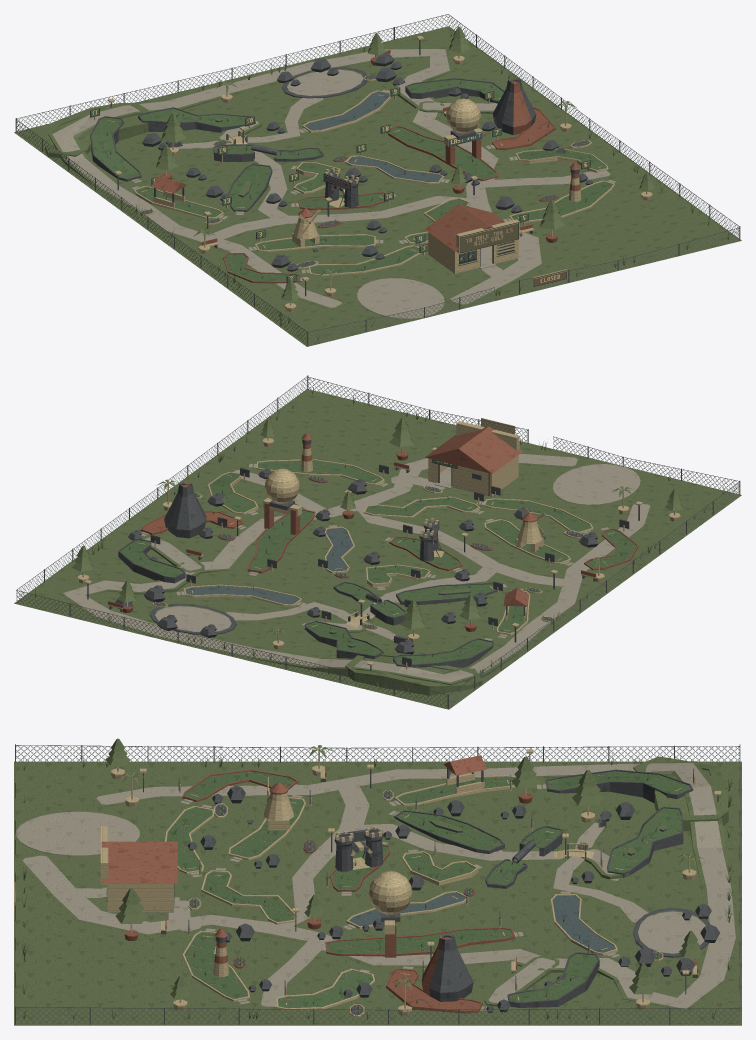
Rendered from thimble-trails-2006.glb.
3 renders of one model, top to bottom at view 1: azimuth 30°, elevation 25°; view 2: azimuth 150°, elevation 25°; view 3: azimuth 270°, elevation 25°, orthographic. The views are drawn at different scales.
Parts seen in each view (by area): view 1: lot, putting_lanes, course_obstacles, ticket_hut, statue_pad, sign_name; view 2: lot, putting_lanes, ticket_hut, course_obstacles, statue_pad; view 3: lot, putting_lanes, course_obstacles, ticket_hut, statue_pad, Gate turret.001, Covered bridge roof, Gate turret.
Part boxes in pixels (x1,y1,x2,y2): lot: [14, 14, 741, 346]; putting_lanes: [90, 78, 614, 283]; course_obstacles: [292, 78, 581, 247]; ticket_hut: [425, 204, 522, 273]; statue_pad: [357, 278, 444, 318]; sign_name: [460, 222, 518, 253]; lot: [14, 375, 741, 709]; putting_lanes: [118, 459, 638, 669]; ticket_hut: [425, 421, 522, 496]; course_obstacles: [164, 433, 543, 551]; statue_pad: [552, 464, 640, 504]; lot: [14, 744, 741, 1025]; putting_lanes: [165, 768, 695, 1013]; course_obstacles: [213, 782, 473, 1001]; ticket_hut: [100, 826, 179, 912]; statue_pad: [16, 811, 139, 855]; Gate turret.001: [334, 835, 353, 871]; Covered bridge roof: [443, 755, 486, 775]; Gate turret: [364, 831, 383, 867].
Size of what is drawn, in the model's own units: 60 by 7.98 by 70.
11 materials, 11 textured.
